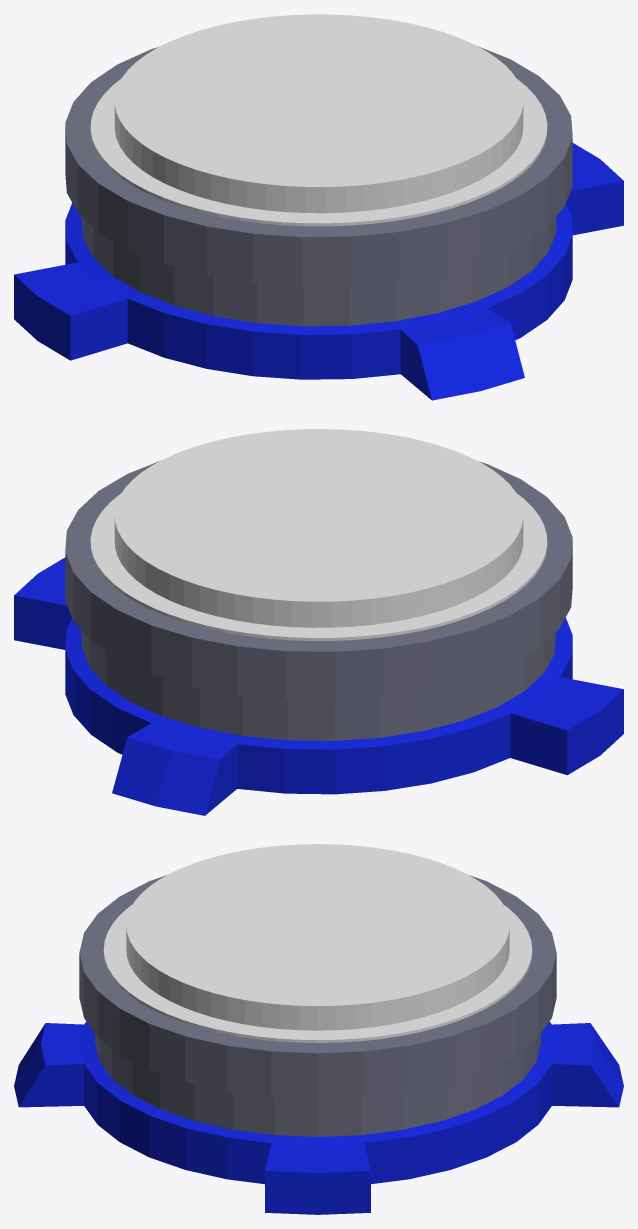
The model's file is player-base.fbx.
3 views of the same model, one above another, from view 1: azimuth 30°, elevation 25°; view 2: azimuth 150°, elevation 25°; view 3: azimuth 270°, elevation 25° (orthographic). The views are drawn at different scales.
Parts seen in each view (by area): view 1: Base, Push, Ring; view 2: Base, Push, Ring; view 3: Base, Push, Ring.
Boxes of the visible parts, x1,y1,x2,y2 form: Base: (14, 46, 623, 400); Push: (114, 14, 523, 213); Ring: (90, 78, 547, 226); Base: (14, 461, 623, 815); Push: (114, 429, 523, 627); Ring: (90, 493, 547, 640); Base: (14, 875, 623, 1214); Push: (126, 844, 509, 1030); Ring: (103, 904, 532, 1042).
Bounding box in the file's own units: 572 × 167 × 573.
